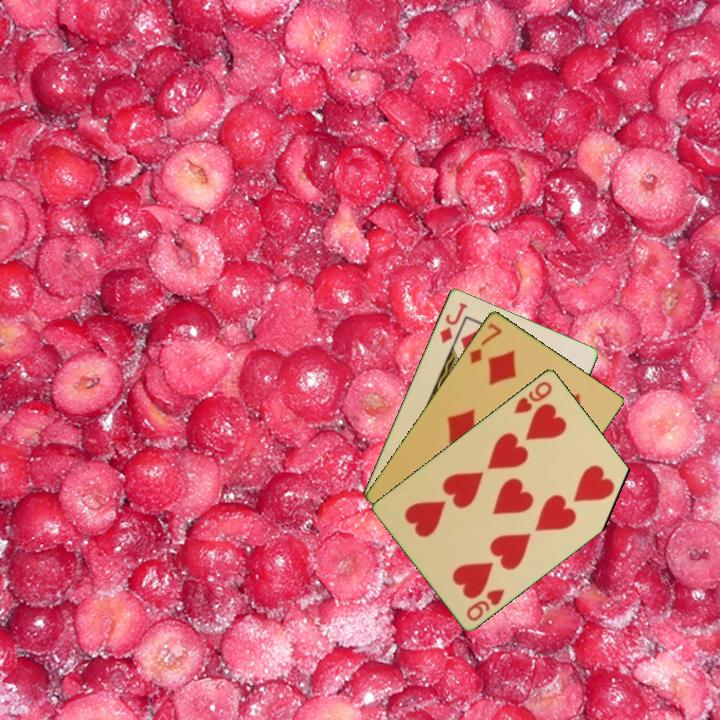7d: (466, 319, 505, 367)
9h: (510, 377, 555, 416), (463, 585, 508, 624)
Jd: (436, 299, 470, 346)
